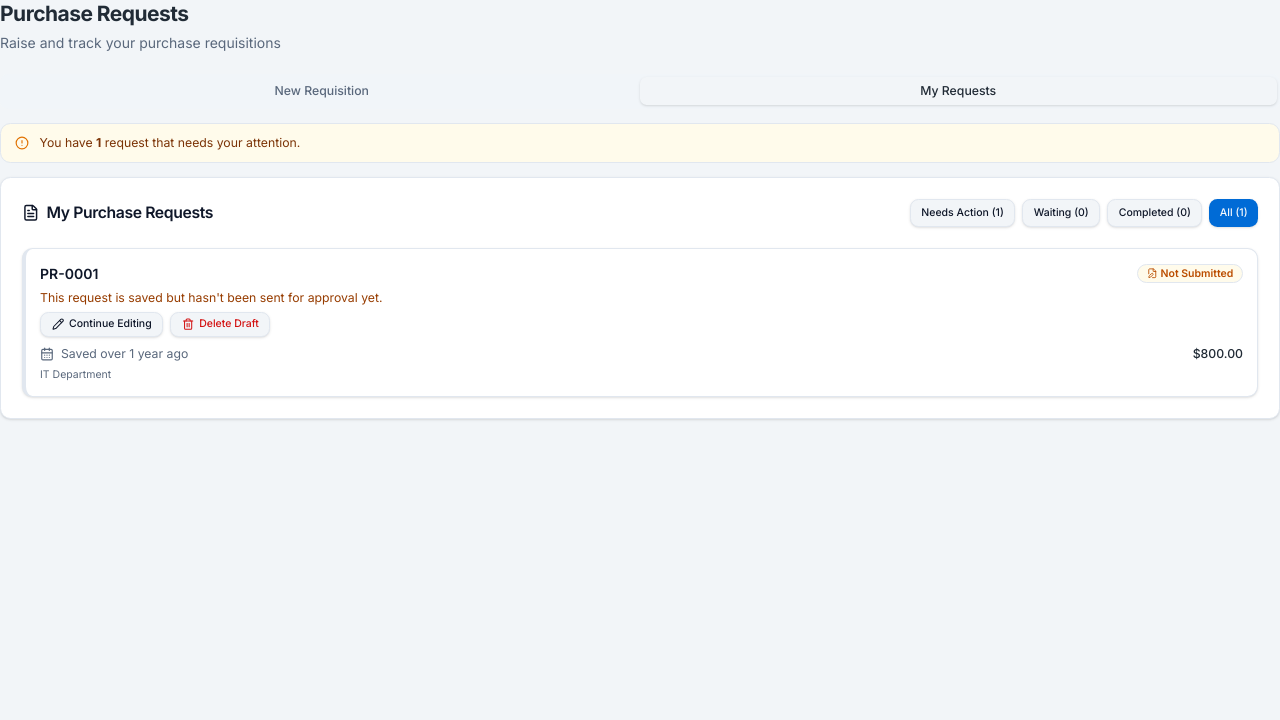
Test case: PurchaseRequestsPage - delete draft confirmation › opens a confirmation dialog naming the draft before deleting anything
Expected: the heading "PR-0001" is shown, [40,263,98,284]
Click the button "Delete Draft". click: [220, 324]
box: [170,312,270,336]
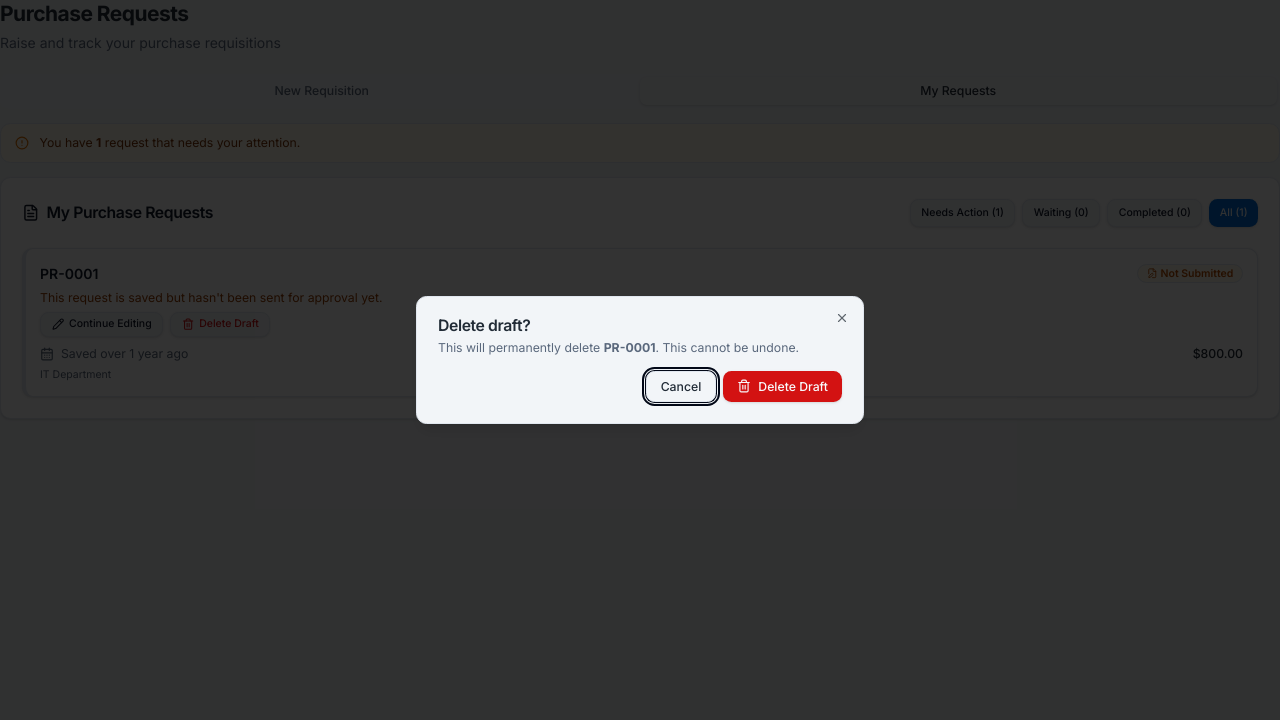
Result: the heading "Delete draft?" is shown at [438,316,530,335]
Result: the text "PR-0001" is shown at [604,340,656,355]
